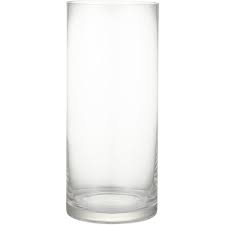glass: (61, 1, 166, 224)
